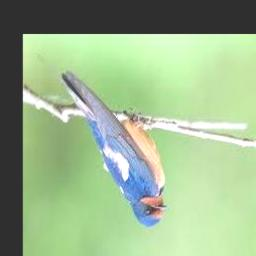Swallow: (61, 72, 168, 226)
